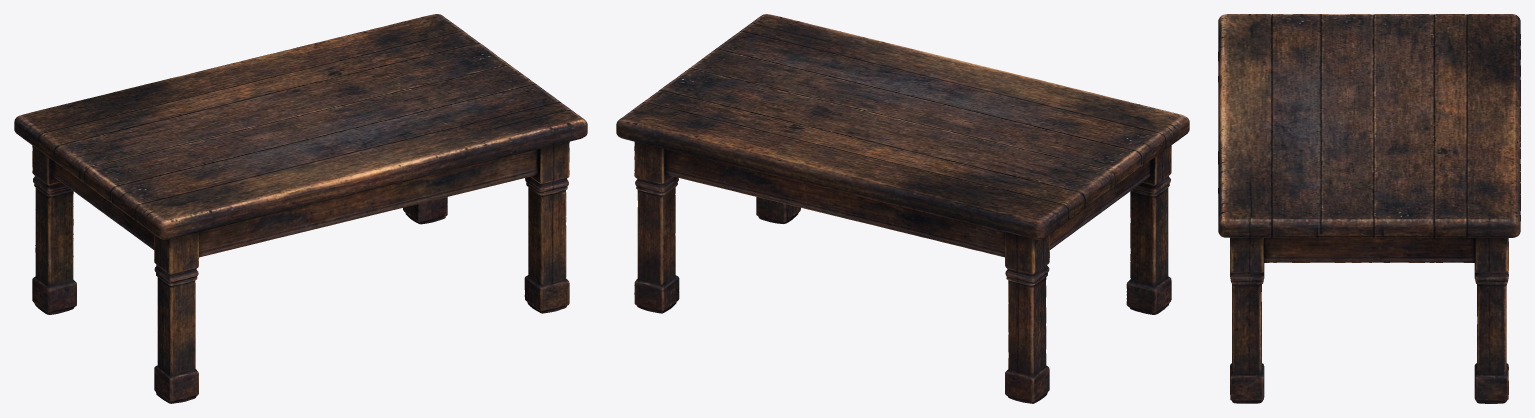
Rendered from workbench.glb.
3 renders of one model, left to right at view 1: azimuth 30°, elevation 25°; view 2: azimuth 150°, elevation 25°; view 3: azimuth 270°, elevation 25°, orthographic.
Size of the model in its own units: 0.9999 by 0.421 by 0.608.
1 material, 1 textured.
